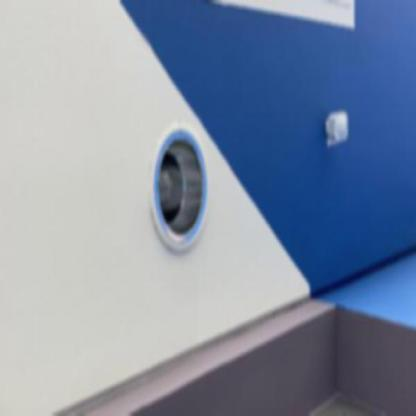light_off: (138, 96, 210, 263)
